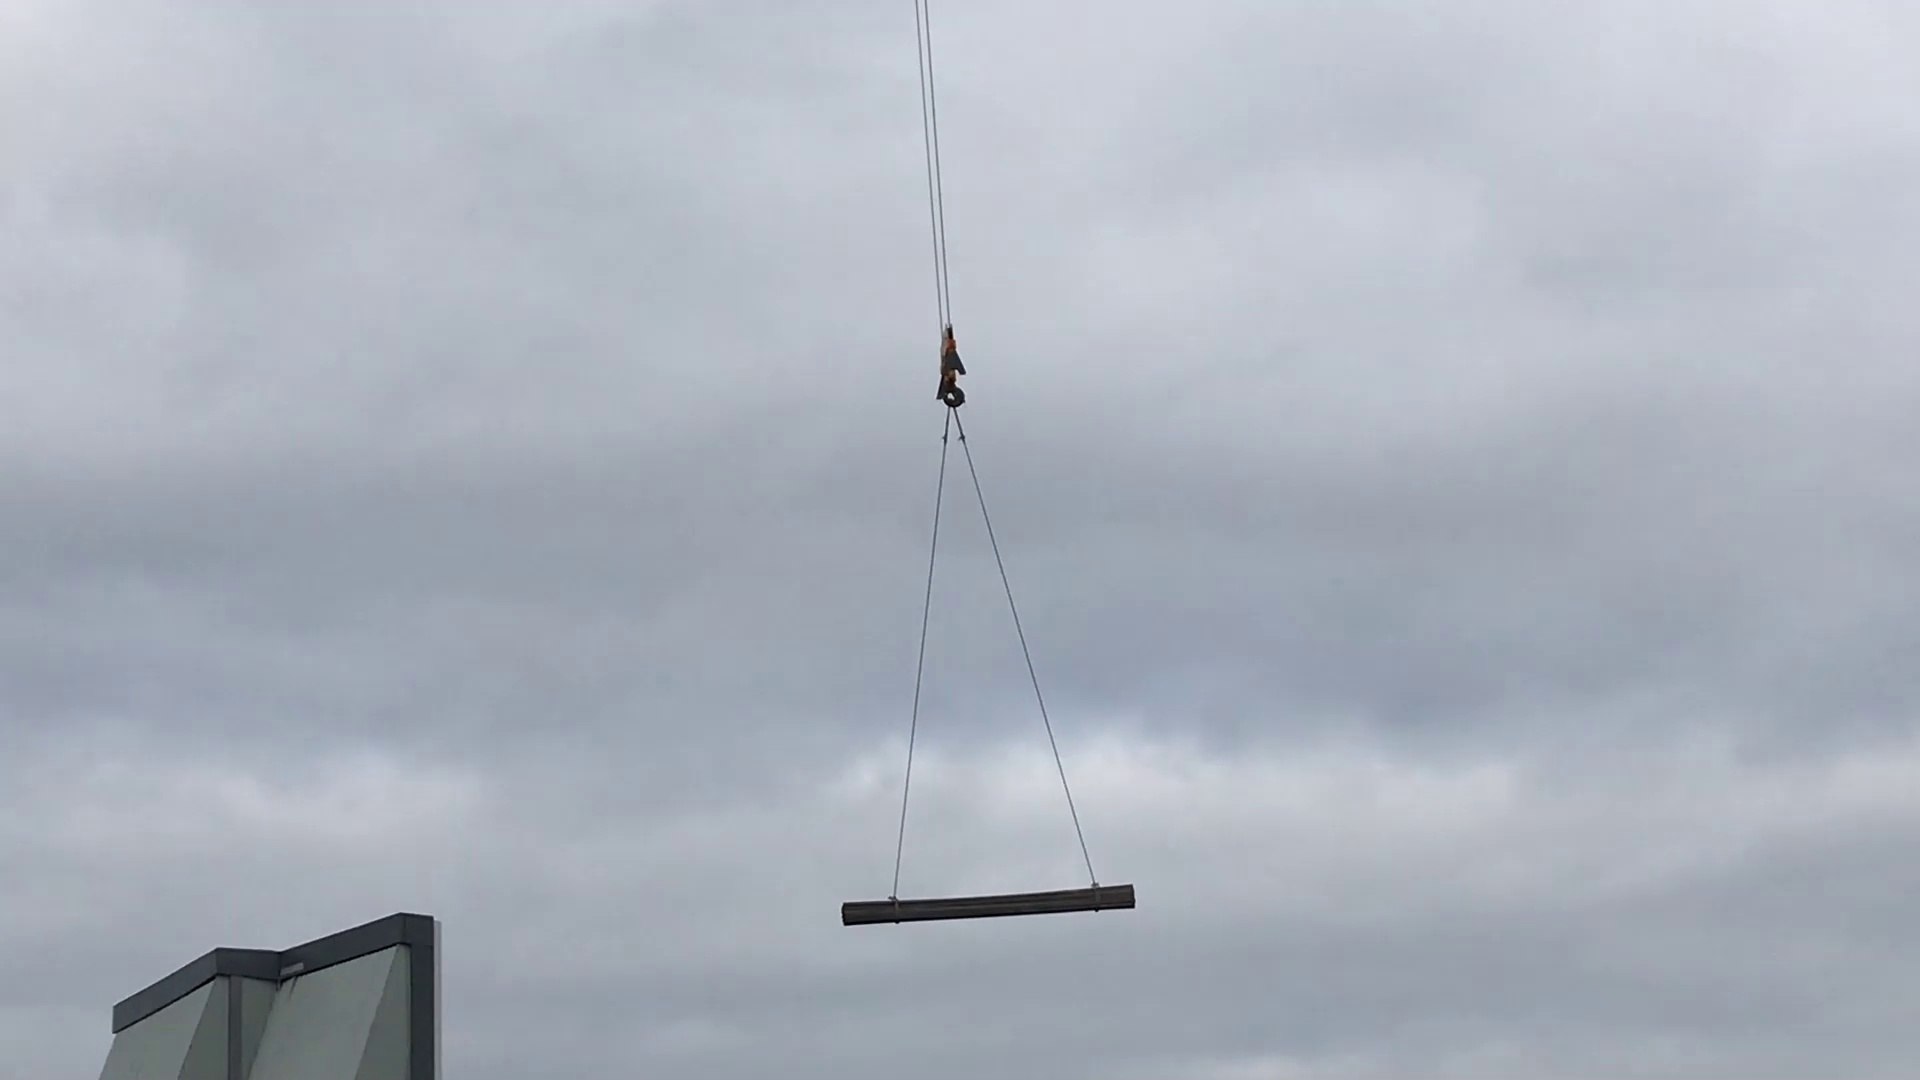hook: (913, 310, 976, 419)
rebar: (833, 878, 1154, 942)
